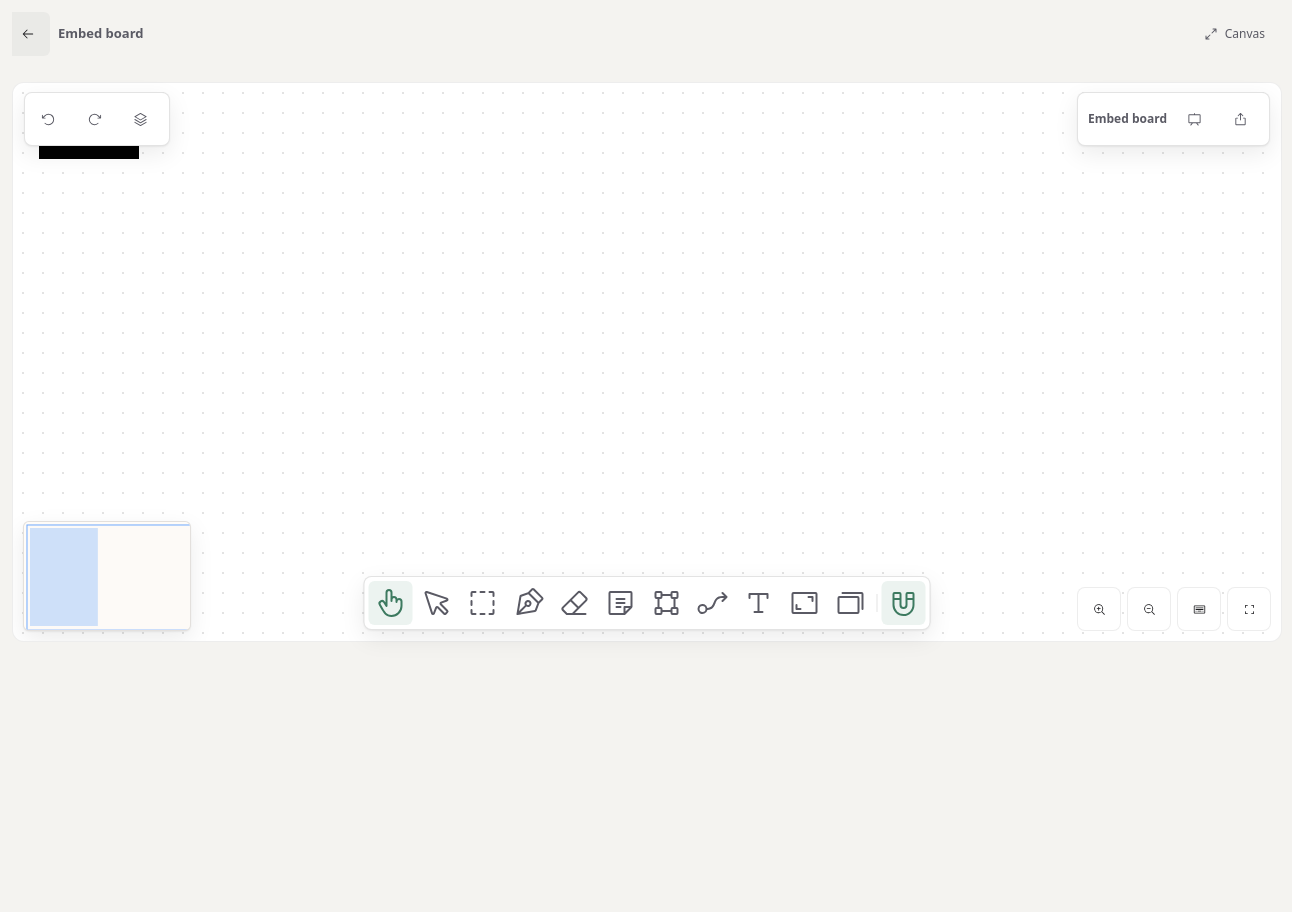
whiteboard canvas embed › menampilkan hint grouping saat embed tanpa grup diklik kanan
Click the button named "Select area — M".
click(482, 603)  # box [460,581,504,625]
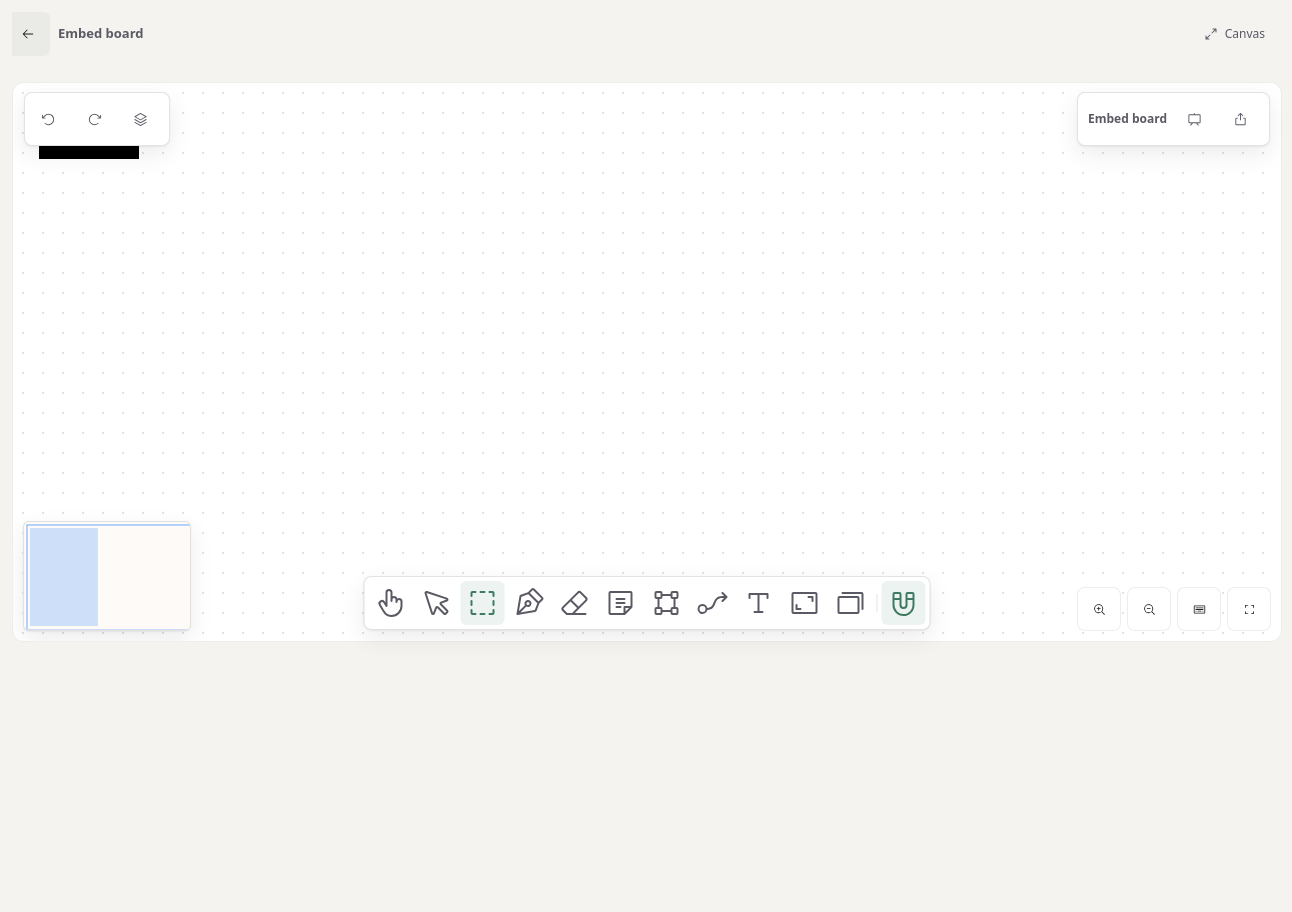
Press the mouse on the icon with class "wb-svg" at (647, 362), box [13,83,1281,641]
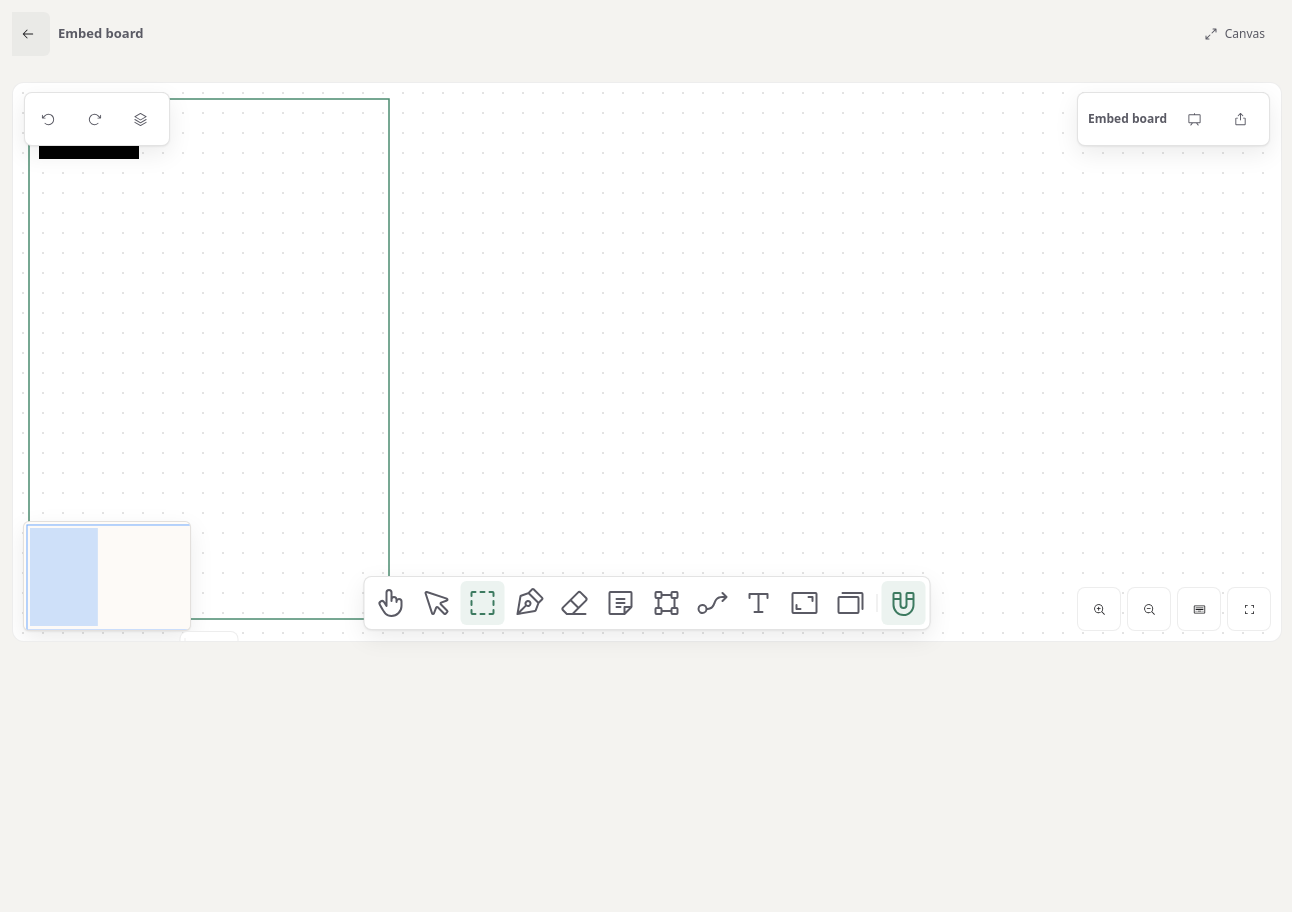
Right-click the icon with class "wb-svg".
right_click(647, 362)  # box [13,83,1281,641]
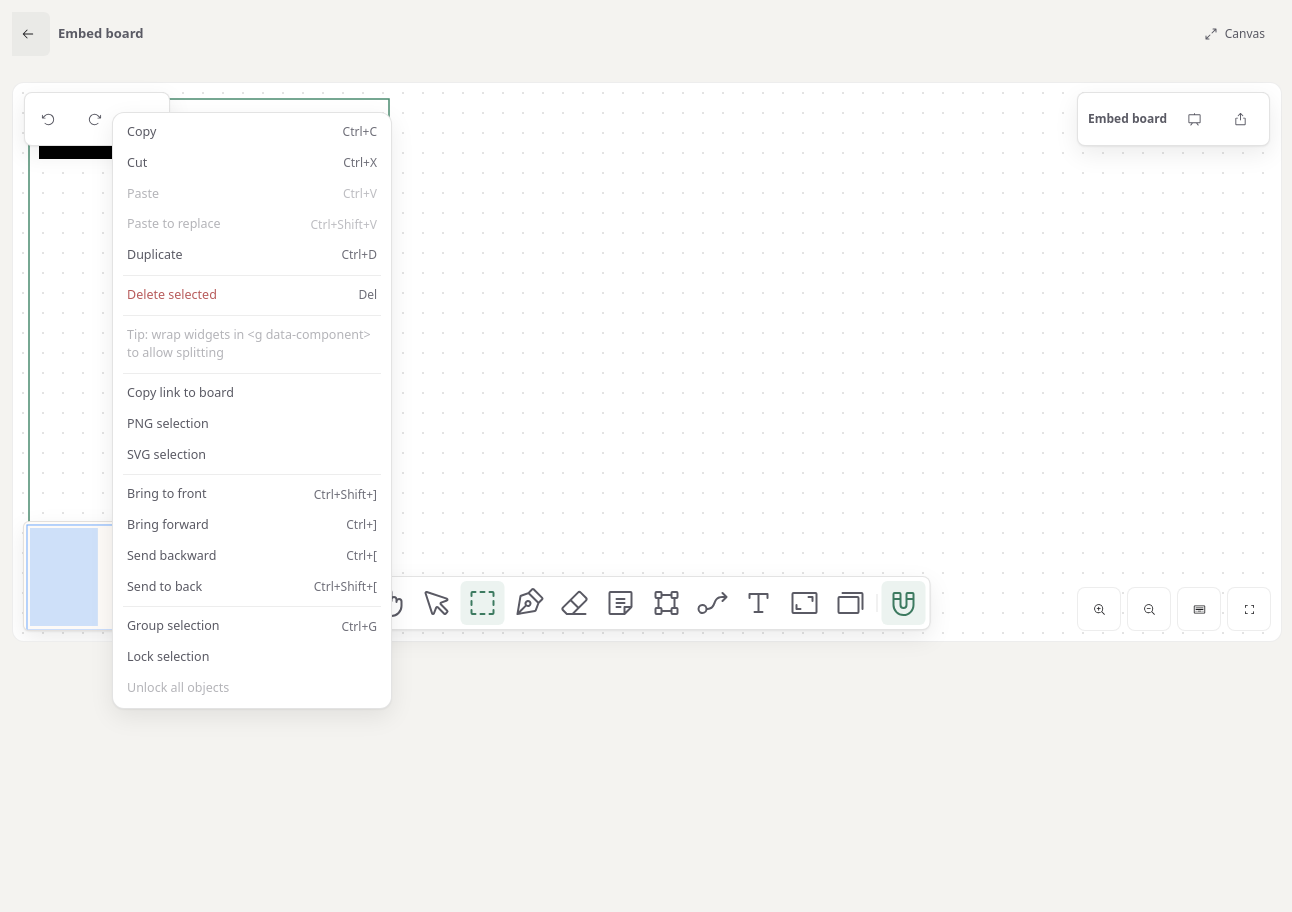
Expected: the menu item "Tip: wrap widgets in <g data-component> to allow splitting" is disabled, [117,320,387,369]
